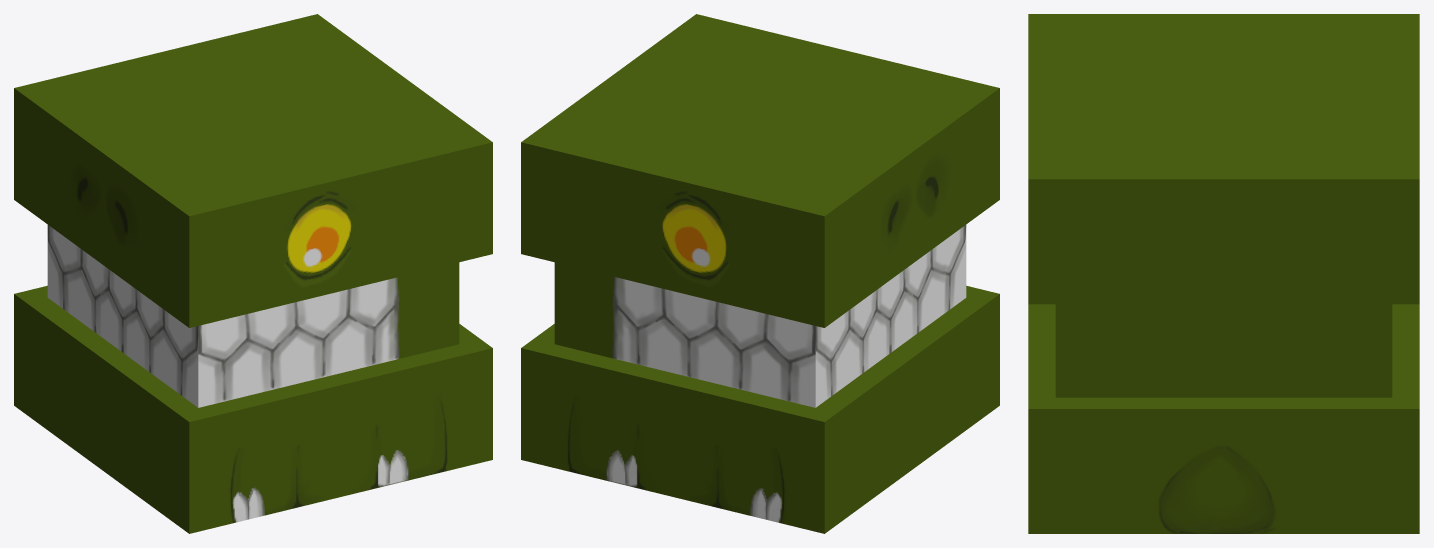
The model's file is enemy.obj.
3 renders of one model, left to right at view 1: azimuth 30°, elevation 25°; view 2: azimuth 150°, elevation 25°; view 3: azimuth 270°, elevation 25°, orthographic. The views are drawn at different scales.
Parts seen in each view (by area): view 1: 立方体.001; view 2: 立方体.001; view 3: 立方体.001.
Part boxes in pixels (left/top/right/bottom): 立方体.001: left=14, top=14, right=492, bottom=533; 立方体.001: left=521, top=14, right=999, bottom=533; 立方体.001: left=1028, top=14, right=1419, bottom=533.
Size of the model in its own units: 2 by 2 by 2.
